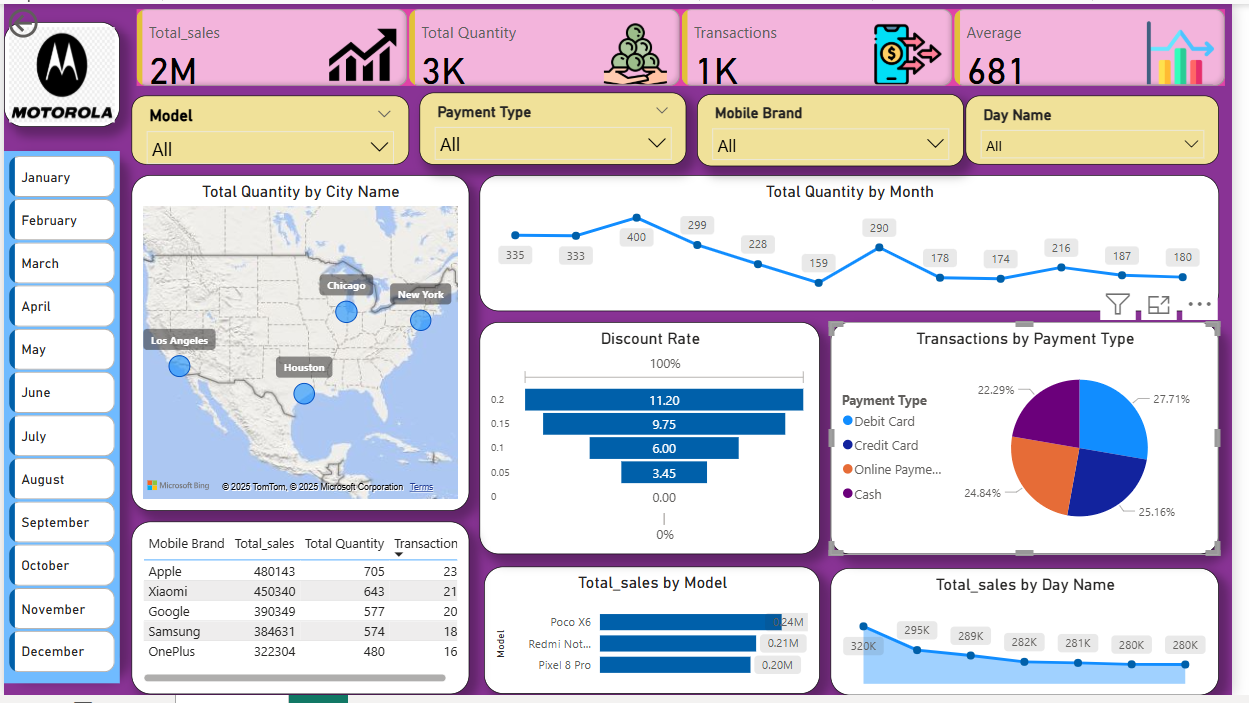

The dashboard page shown, as its layout file describes it:
{"tool":"powerbi","page":{"name":"Page 1","canvas":[1280,720],"ordinal":0},"visuals":[{"type":"shape","box":[0,18.8,120.4,109.4],"z":0},{"type":"image","box":[0,18.8,120.4,109.4],"z":1000},{"type":"shape","box":[0,153.2,120.4,542.4],"z":2000},{"type":"advancedSlicerVisual","fields":{"Values":["mobile_sales_data_updated_with_.Date.Variation.Date Hierarchy.Month"]},"box":[0,153.2,120.4,554.9],"z":3000},{"type":"cardVisual","fields":{"Data":["mobile_sales_data_updated_with_.Total_sales","mobile_sales_data_updated_with_.Total Quantity","mobile_sales_data_updated_with_.Transactions","mobile_sales_data_updated_with_.Average"]},"box":[132.9,0,1147.2,95.3],"z":4000},{"type":"map","fields":{"Category":["mobile_sales_data_updated_with_.City Name"],"Size":["mobile_sales_data_updated_with_.Total Quantity"]},"box":[132.9,178.2,351.7,350.1],"z":5000},{"type":"lineChart","fields":{"Y":["mobile_sales_data_updated_with_.Total Quantity"],"Category":["mobile_sales_data_updated_with_.Date.Variation.Date Hierarchy.Month","mobile_sales_data_updated_with_.Date.Variation.Date Hierarchy.Day"]},"box":[495.5,178.2,770.6,142.2],"z":6000},{"type":"clusteredBarChart","title":"Total_sales by Model","fields":{"Category":["mobile_sales_data_updated_with_.Model"],"Y":["mobile_sales_data_updated_with_.Total_sales"]},"box":[500.2,586.1,350.1,132.9],"z":7000},{"type":"pieChart","fields":{"Category":["mobile_sales_data_updated_with_.Payment Type"],"Y":["mobile_sales_data_updated_with_.Transactions"]},"box":[861.2,331.4,404.8,242.3],"z":8000},{"type":"funnel","title":"Discount Rate ","fields":{"Y":["Sum(mobile_sales_data_updated_with_.Discount Rate)"],"Category":["mobile_sales_data_updated_with_.Discount Rate"]},"box":[495.5,331.4,354.8,242.3],"z":9000},{"type":"areaChart","fields":{"Category":["mobile_sales_data_updated_with_.Day Name"],"Y":["mobile_sales_data_updated_with_.Total_sales"]},"box":[861.2,587.7,404.8,132.9],"z":10000},{"type":"tableEx","fields":{"Values":["mobile_sales_data_updated_with_.Mobile Brand","mobile_sales_data_updated_with_.Total_sales","mobile_sales_data_updated_with_.Total Quantity","mobile_sales_data_updated_with_.Transactions"]},"box":[132.9,539.2,351.7,179.7],"z":11000},{"type":"actionButton","box":[0,0,100,40],"z":12000},{"type":"slicer","fields":{"Values":["mobile_sales_data_updated_with_.Model"]},"box":[132.9,95.3,289.2,71.9],"z":13000},{"type":"slicer","fields":{"Values":["mobile_sales_data_updated_with_.Payment Type"]},"box":[432.9,92.2,278.2,75],"z":14000},{"type":"slicer","fields":{"Values":["mobile_sales_data_updated_with_.Mobile Brand"]},"box":[722.1,93.8,278.2,75],"z":15000},{"type":"slicer","fields":{"Values":["mobile_sales_data_updated_with_.Day Name"]},"box":[1001.9,95.3,264.1,71.9],"z":16000}]}

Visuals, with their boxes in screenshot pixels (x1, y1, x2, y2), scaled from the page's 1280x720 canvas onto the 1249x703 screenshot:
shape: (0, 18, 117, 125)
image: (0, 18, 117, 125)
shape: (0, 150, 117, 679)
advancedSlicerVisual - mobile_sales_data_updated_with_.Date.Variation.Date Hierarchy.Month: (0, 150, 117, 691)
cardVisual - mobile_sales_data_updated_with_.Total_sales x mobile_sales_data_updated_with_.Total Quantity: (130, 0, 1248, 93)
map - mobile_sales_data_updated_with_.City Name x mobile_sales_data_updated_with_.Total Quantity: (130, 174, 473, 516)
lineChart - mobile_sales_data_updated_with_.Total Quantity x mobile_sales_data_updated_with_.Date.Variation.Date Hierarchy.Month: (483, 174, 1235, 313)
"Total_sales by Model" clusteredBarChart: (488, 572, 830, 702)
pieChart - mobile_sales_data_updated_with_.Payment Type x mobile_sales_data_updated_with_.Transactions: (840, 324, 1235, 560)
"Discount Rate " funnel: (483, 324, 830, 560)
areaChart - mobile_sales_data_updated_with_.Day Name x mobile_sales_data_updated_with_.Total_sales: (840, 574, 1235, 702)
tableEx - mobile_sales_data_updated_with_.Mobile Brand x mobile_sales_data_updated_with_.Total_sales: (130, 526, 473, 702)
actionButton: (0, 0, 98, 39)
slicer - mobile_sales_data_updated_with_.Model: (130, 93, 412, 163)
slicer - mobile_sales_data_updated_with_.Payment Type: (422, 90, 694, 163)
slicer - mobile_sales_data_updated_with_.Mobile Brand: (705, 92, 976, 165)
slicer - mobile_sales_data_updated_with_.Day Name: (978, 93, 1235, 163)
